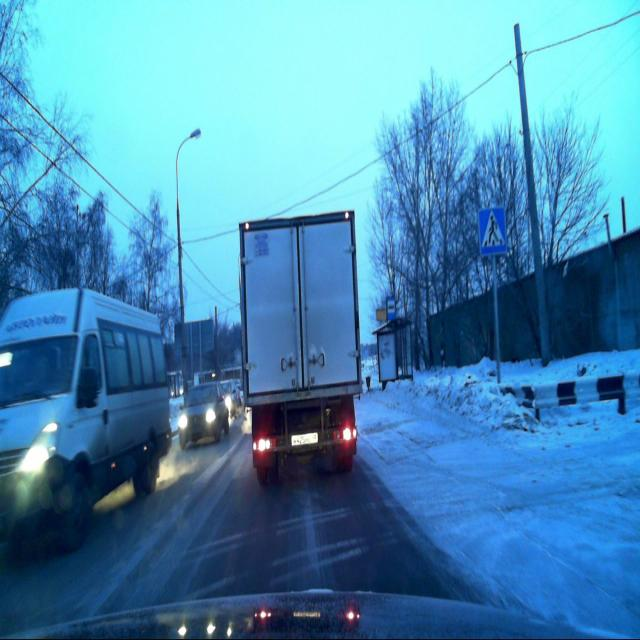object: (493, 260, 502, 384)
road sign: (478, 205, 508, 255), (386, 297, 396, 321)
